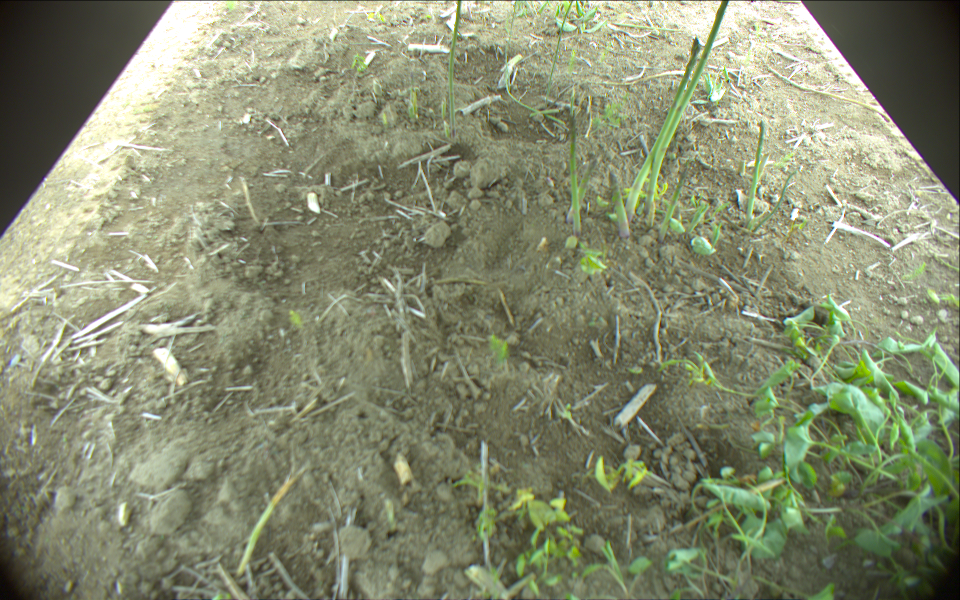aspa: (645, 1, 730, 213), (623, 37, 700, 220), (764, 58, 894, 121), (238, 474, 304, 577), (565, 150, 603, 225), (659, 158, 689, 240), (568, 115, 584, 238), (549, 1, 572, 86), (747, 122, 766, 221), (608, 169, 630, 238), (450, 1, 461, 136), (610, 21, 680, 31)
